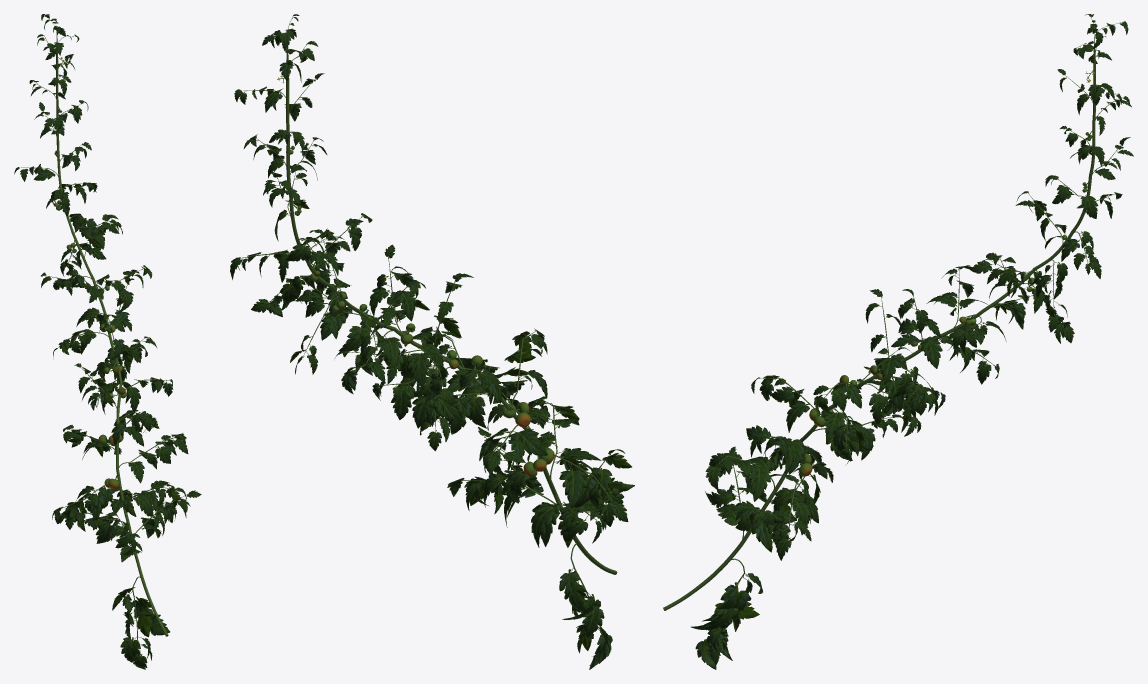
File: tomato_008.glb
The picture shows the model from 3 angles, left to right: view 1: azimuth 30°, elevation 25°; view 2: azimuth 150°, elevation 25°; view 3: azimuth 270°, elevation 25°; orthographic projection. The views are drawn at different scales.
Visible parts, largest first — view 1: tomato_008; view 2: tomato_008; view 3: tomato_008.
Part boxes in pixels (x1,y1,x2,y2): tomato_008: (14, 14, 201, 669); tomato_008: (230, 14, 634, 669); tomato_008: (663, 14, 1133, 669).
Size of the model in its own units: 0.9944 by 3.13 by 1.93.
Materials: 15 (14 with a texture image).
